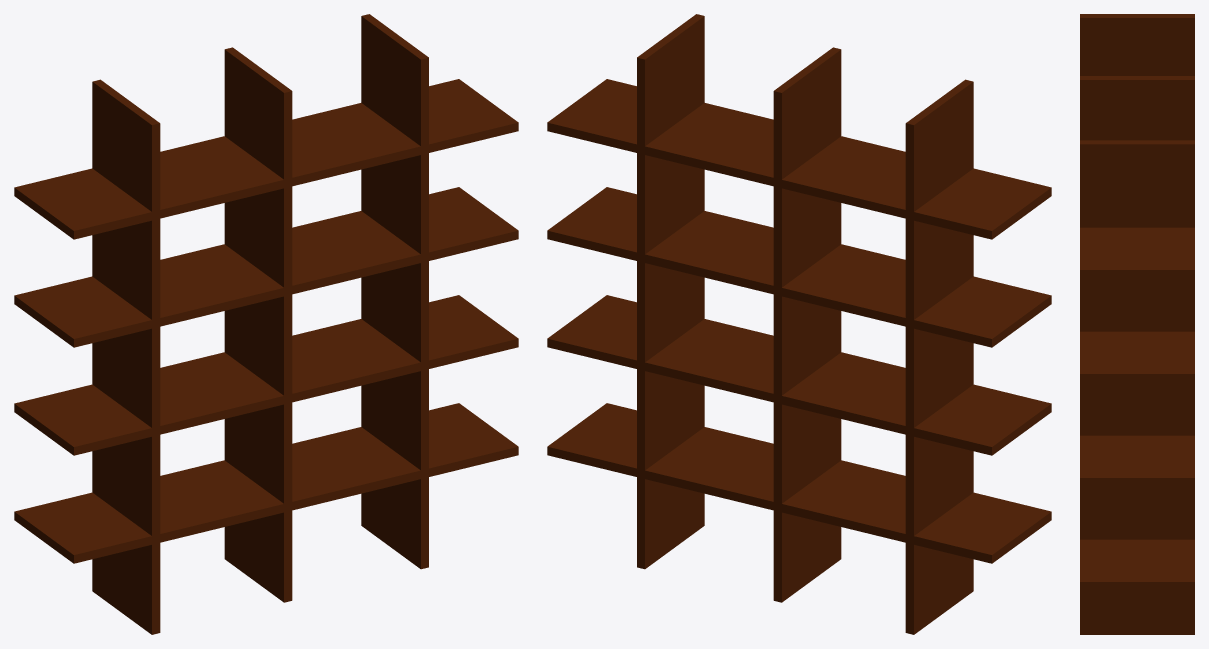
The model's file is Res01_BookSelf.fbx.
3 views of the same model, side by side, from view 1: azimuth 30°, elevation 25°; view 2: azimuth 150°, elevation 25°; view 3: azimuth 270°, elevation 25° (orthographic). The views are drawn at different scales.
Visible parts, largest first — view 1: Res01_BookSelf; view 2: Res01_BookSelf; view 3: Res01_BookSelf.
Part boxes in pixels (<box>): Res01_BookSelf: <box>14,14,518,634</box>; Res01_BookSelf: <box>547,14,1051,634</box>; Res01_BookSelf: <box>1080,14,1194,634</box>.
Bounding box in the file's own units: 314 × 344 × 72.96.
